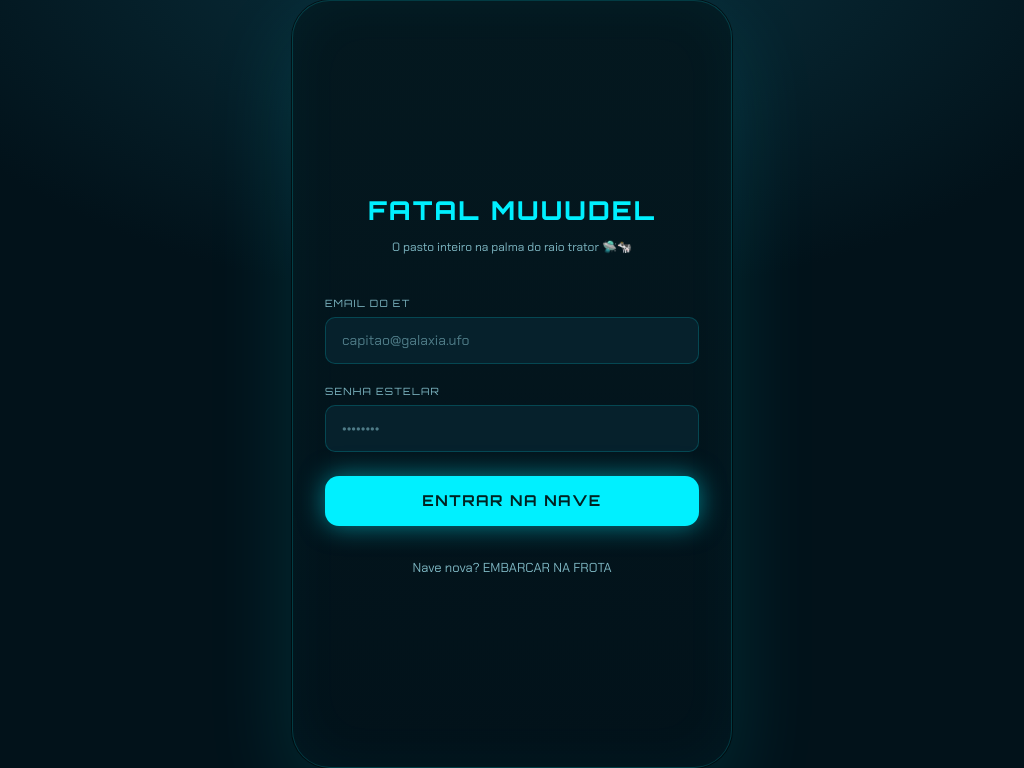
Test: LoginPage › exibe erro de validação para email inválido
The image size is (1024, 768).
Click the button "ENTRAR NA NAVE".
click(512, 501)  # box [325,476,699,526]
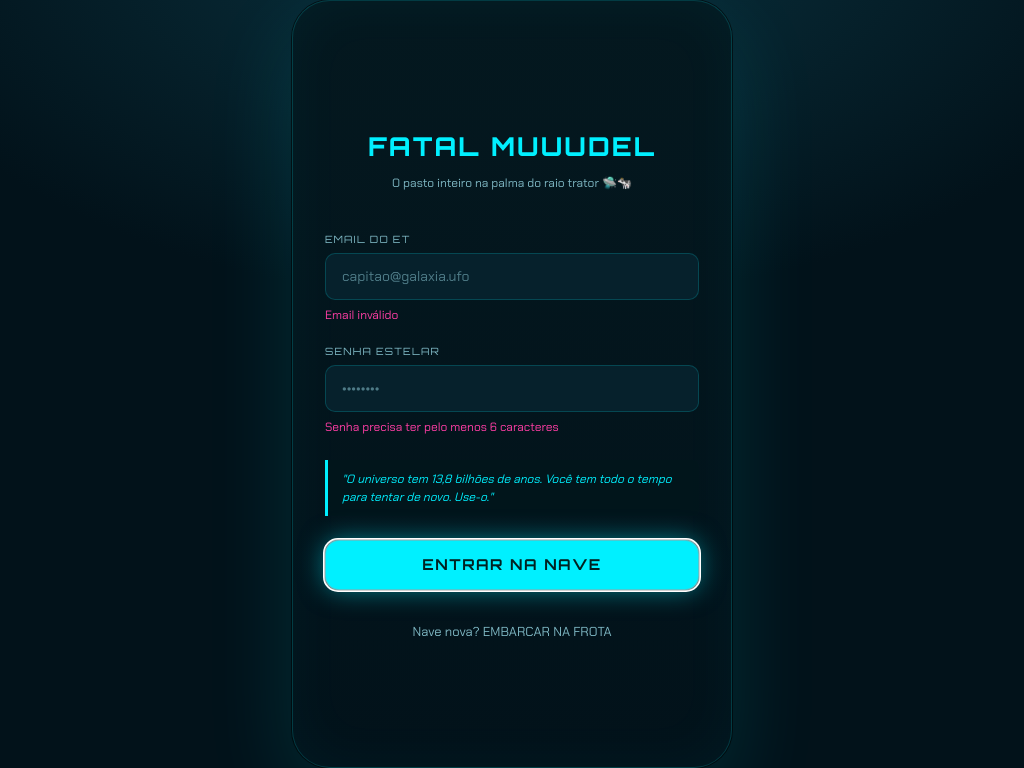
Expected: the text "Email inválido" is shown, [325,306,398,322]
